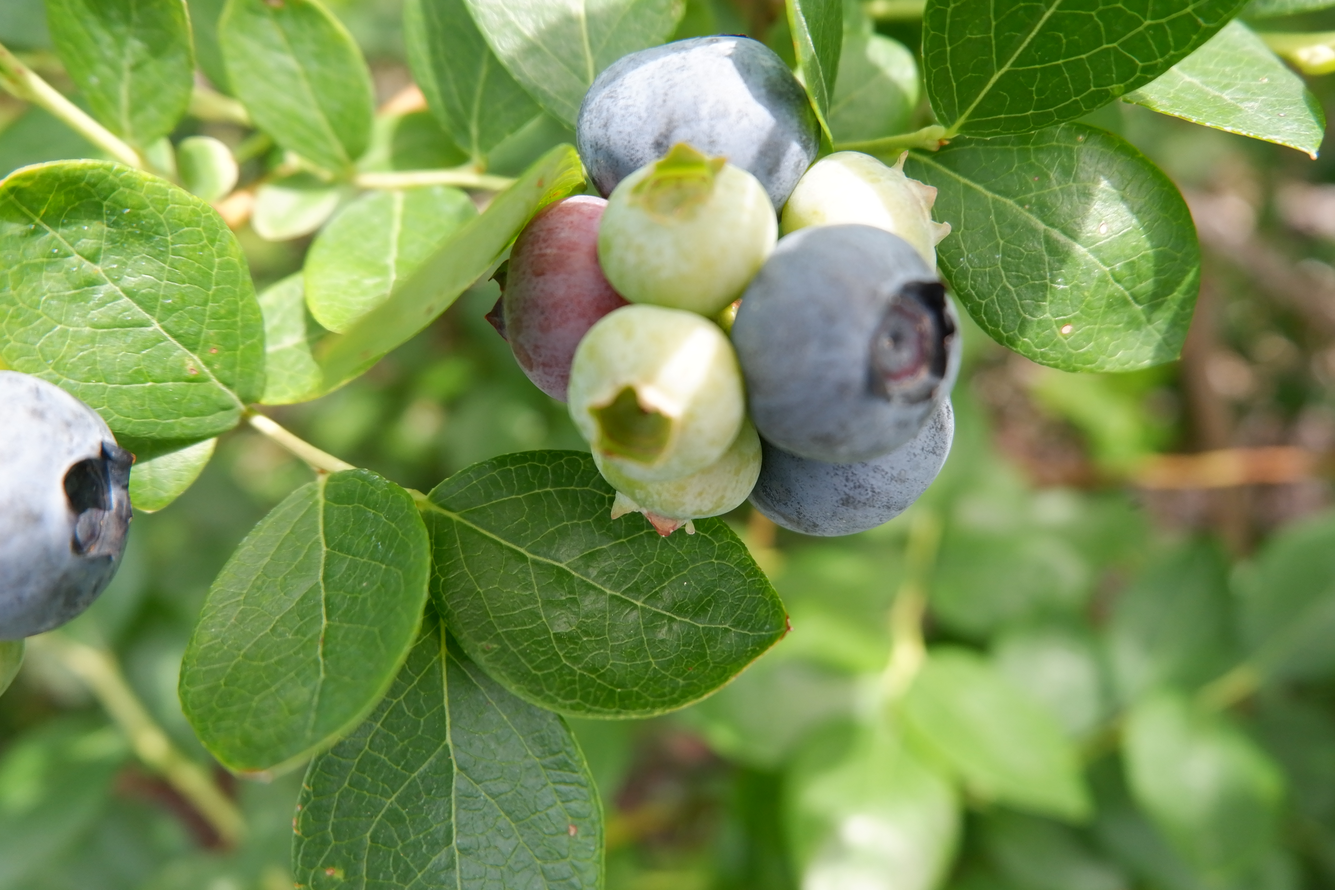Immature: (572, 310, 742, 483), (601, 150, 774, 313), (494, 199, 618, 396), (591, 405, 762, 538), (782, 154, 944, 267)
Mature: (738, 224, 955, 464), (580, 40, 816, 206), (1, 371, 136, 638), (754, 403, 950, 533)
